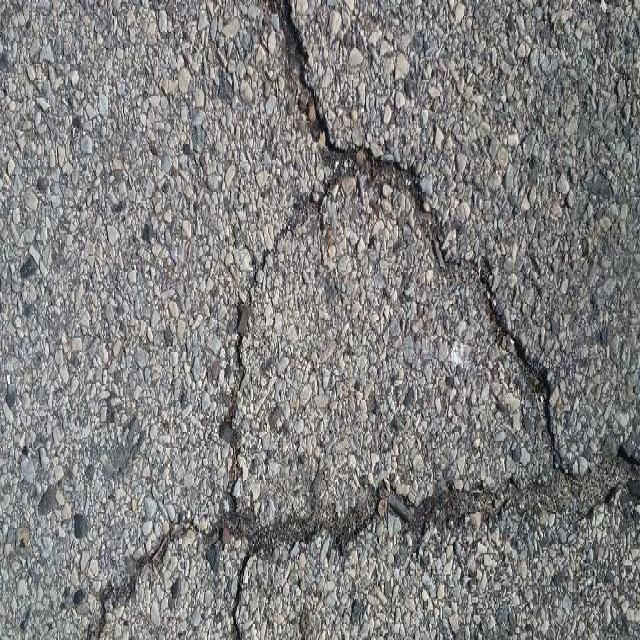GRIETA: (267, 0, 559, 471), (83, 453, 639, 639), (219, 182, 333, 514), (232, 553, 253, 639)
